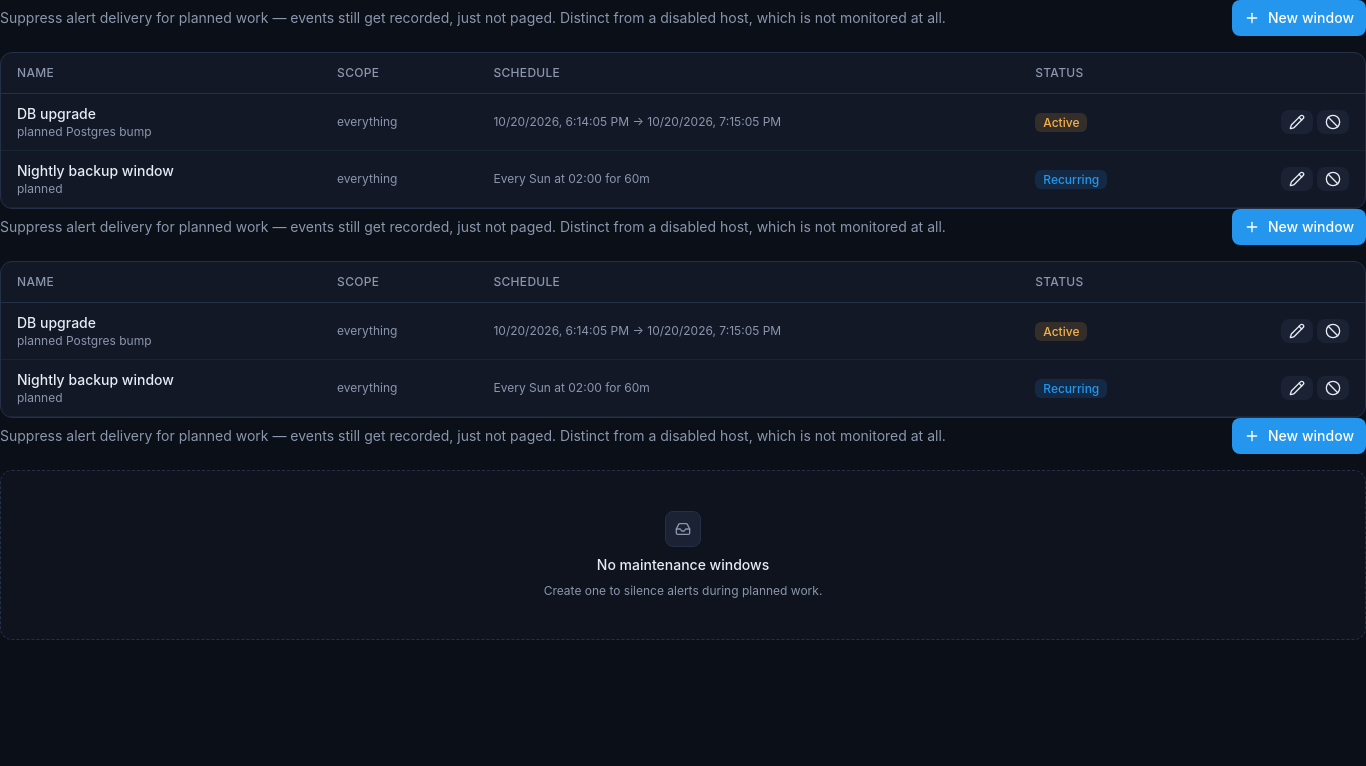
Test case: MaintenanceWindows — host picker without the hosts section › falls back to the caller's own reachable host ids when /api/hosts is refused
The image size is (1366, 766).
Click the 3rd button "New window" at coordinates (1299, 436), box [1232, 418, 1365, 454]
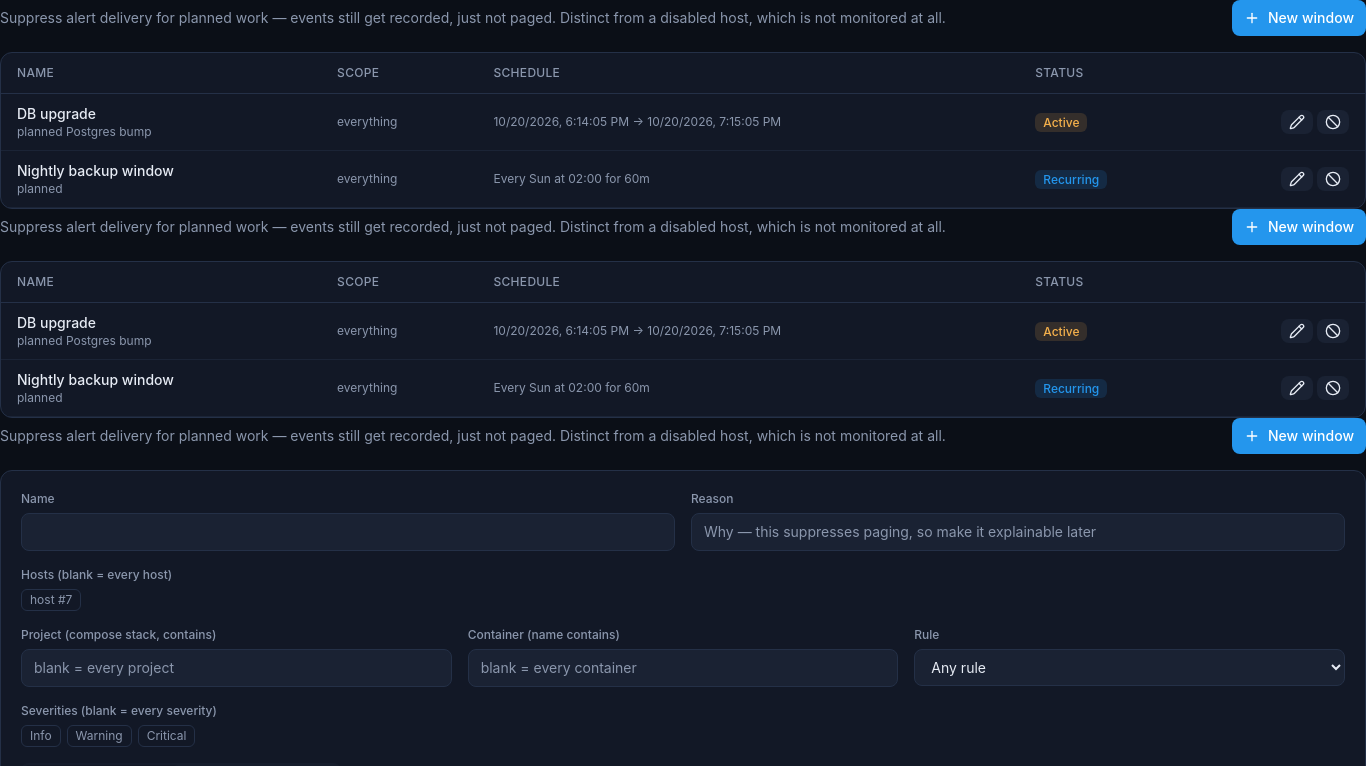
Result: the text "host #7" is shown at [21, 589, 81, 611]
